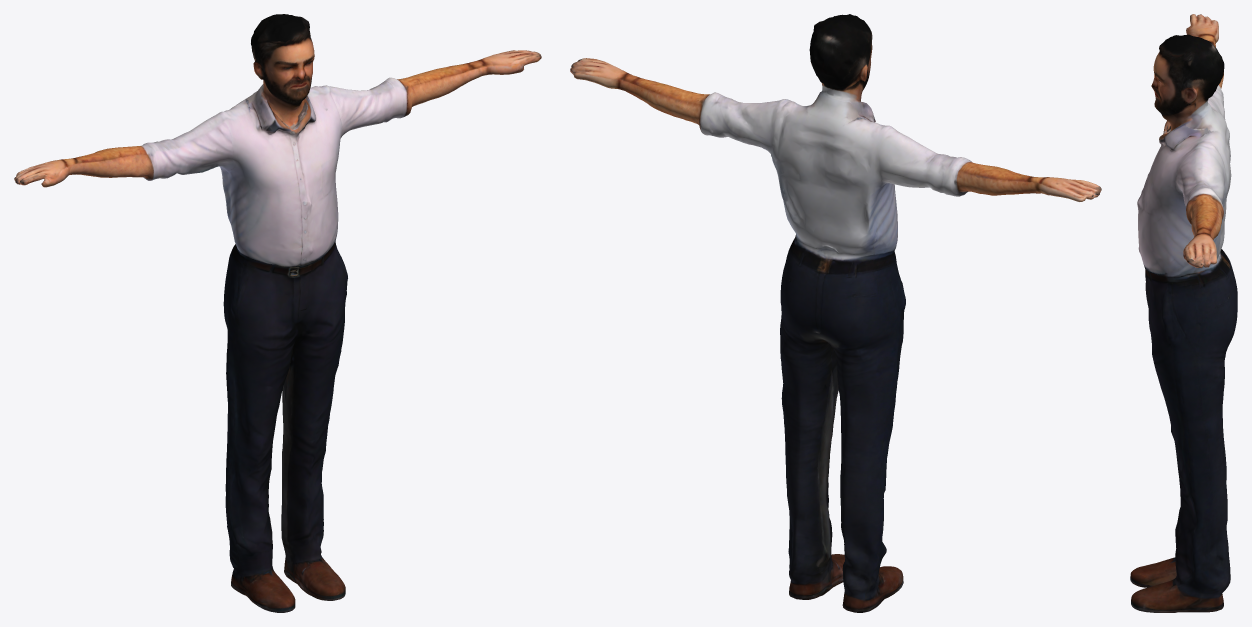
Rendered from buch.fbx.
3 views of the same model, side by side, from view 1: azimuth 30°, elevation 25°; view 2: azimuth 150°, elevation 25°; view 3: azimuth 270°, elevation 25° (orthographic). The views are drawn at different scales.
Parts seen in each view (by area): view 1: mesh; view 2: mesh; view 3: mesh.
Part boxes in pixels (x1,y1,x2,y2): mesh: [14, 14, 541, 612]; mesh: [570, 14, 1101, 612]; mesh: [1130, 14, 1237, 612].
Size of the model in its own units: 193 by 200 by 35.15.
Materials: 1 (1 with a texture image).
